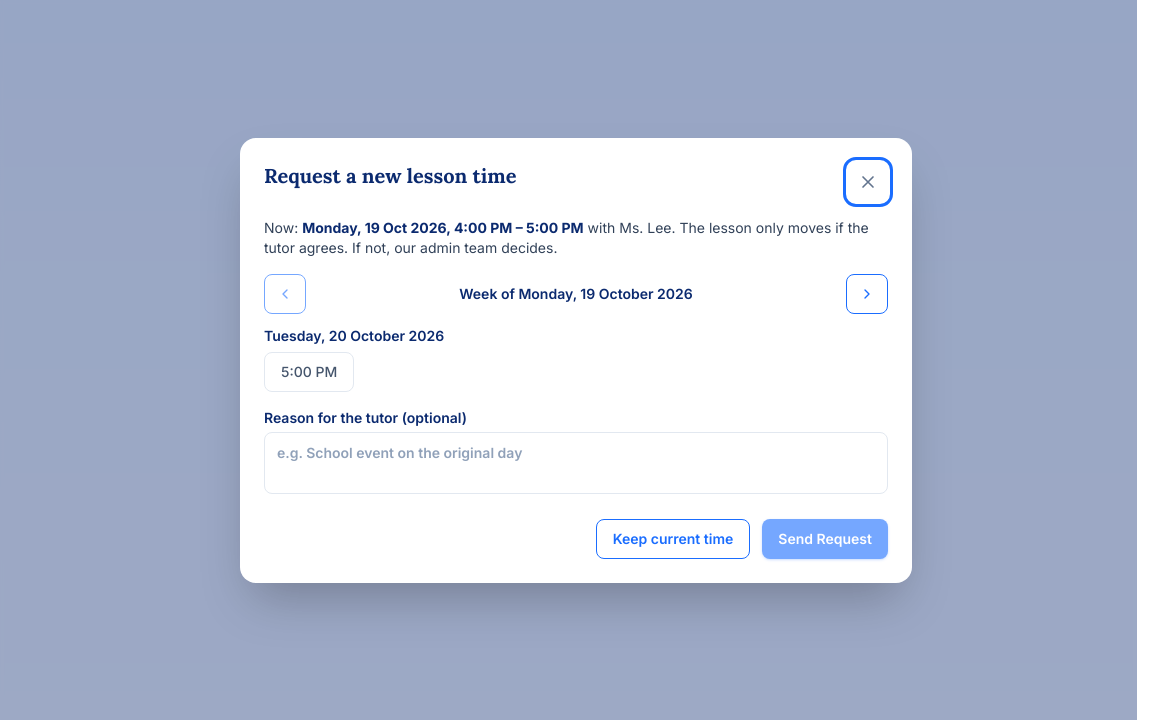
Scenario: reschedule dialog › shows the server problem inside the dialog
The width and height of the screenshot is (1152, 720).
Step 1. Click the button "5:00 PM" → coordinates (309, 372), box [264,352,354,392]
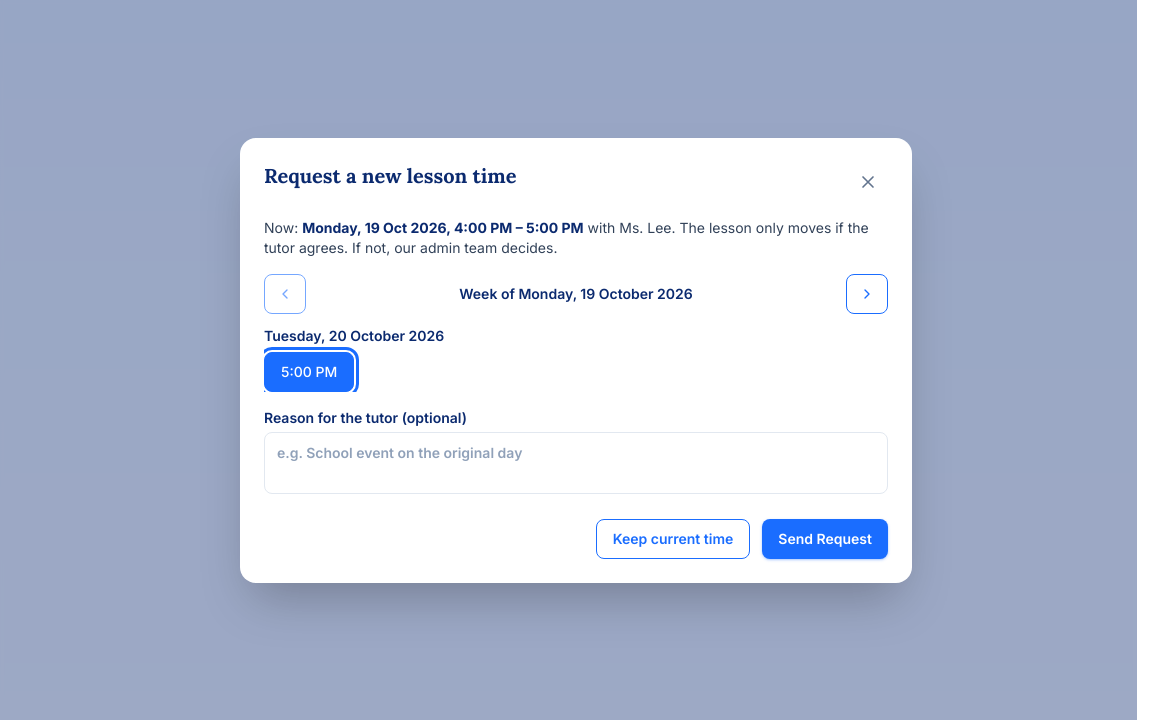
Step 2. Click the button "Send Request" → coordinates (825, 538), box [762,518,888,558]
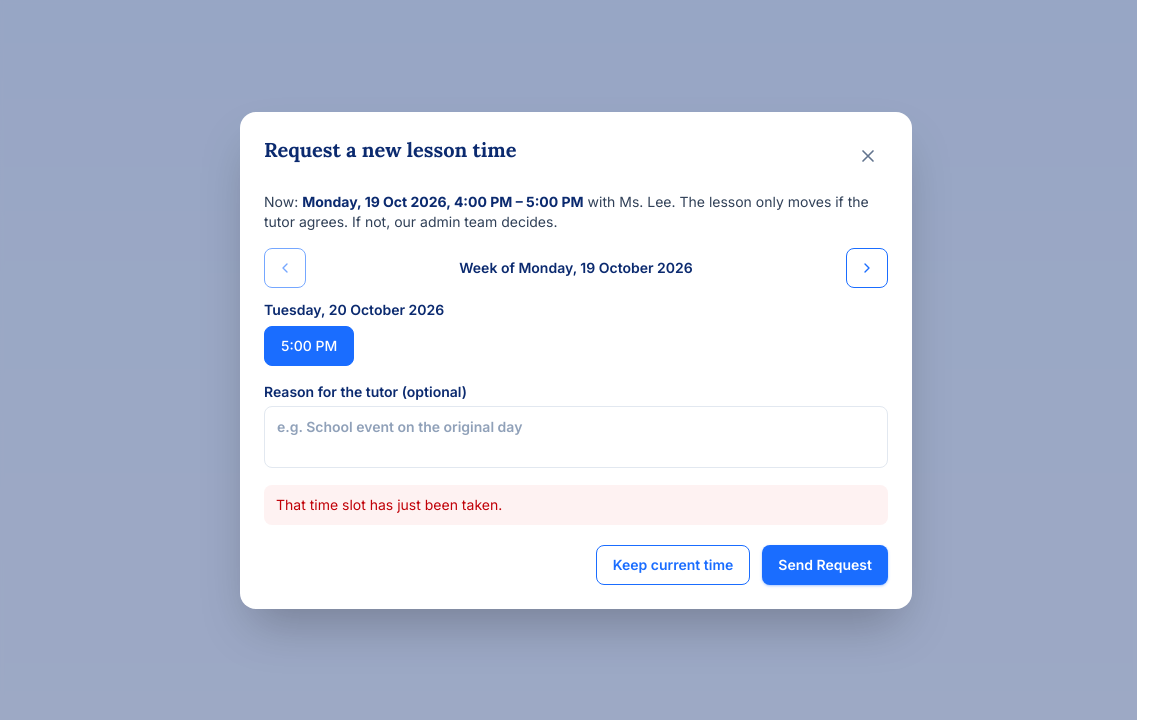
Now the text "That time slot has just been taken." is shown, box [264,484,888,524]
